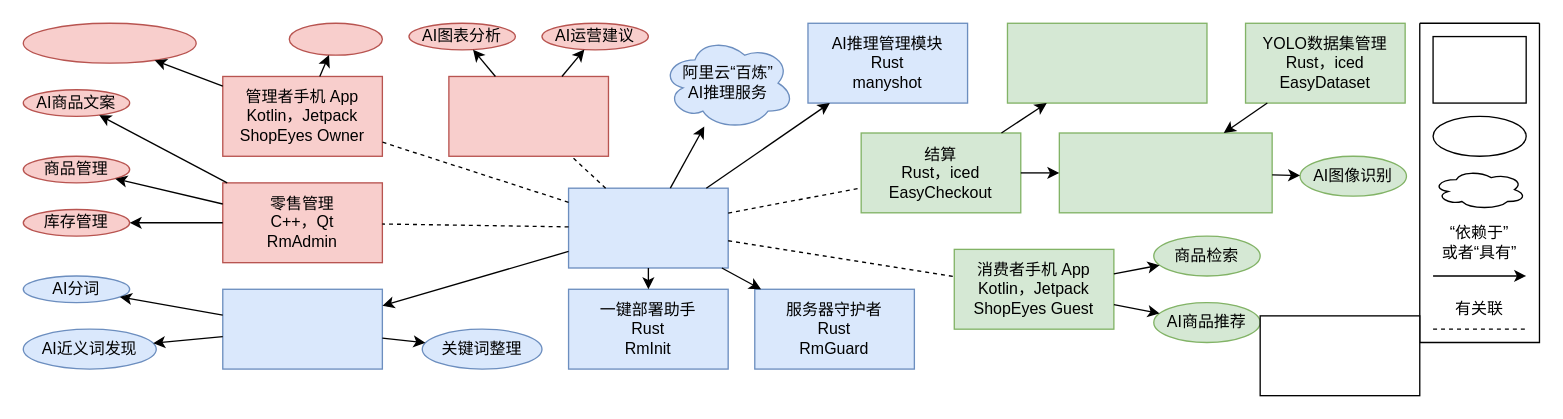
The diagram is 1563 pixels wide and 419 high, and some of its shapes have lost their labels. Here are the shapes that lost their labels. From the top down, the centre of each, then its label:
At (109,42): "（点货） AI条码识别".
At (335,38): "拍照上传".
At (1106,62): "称重模块 Rust，C++，PlatformIO （无名）".
At (1479,69): "模块名字 技术路线 程序名字".
At (528,115): "业绩分析 Python，NiceGUI RmAnalysis".
At (1479,135): "功能模块".
At (1165,172): "商品识别模块 Python，PyTorch，YOLO yolod".
At (1479,188): "云服务".
At (647,227): "后端服务器 Rust，axum RmService".
At (301,328): "关键词搜索引擎 Rust “探寻”".
